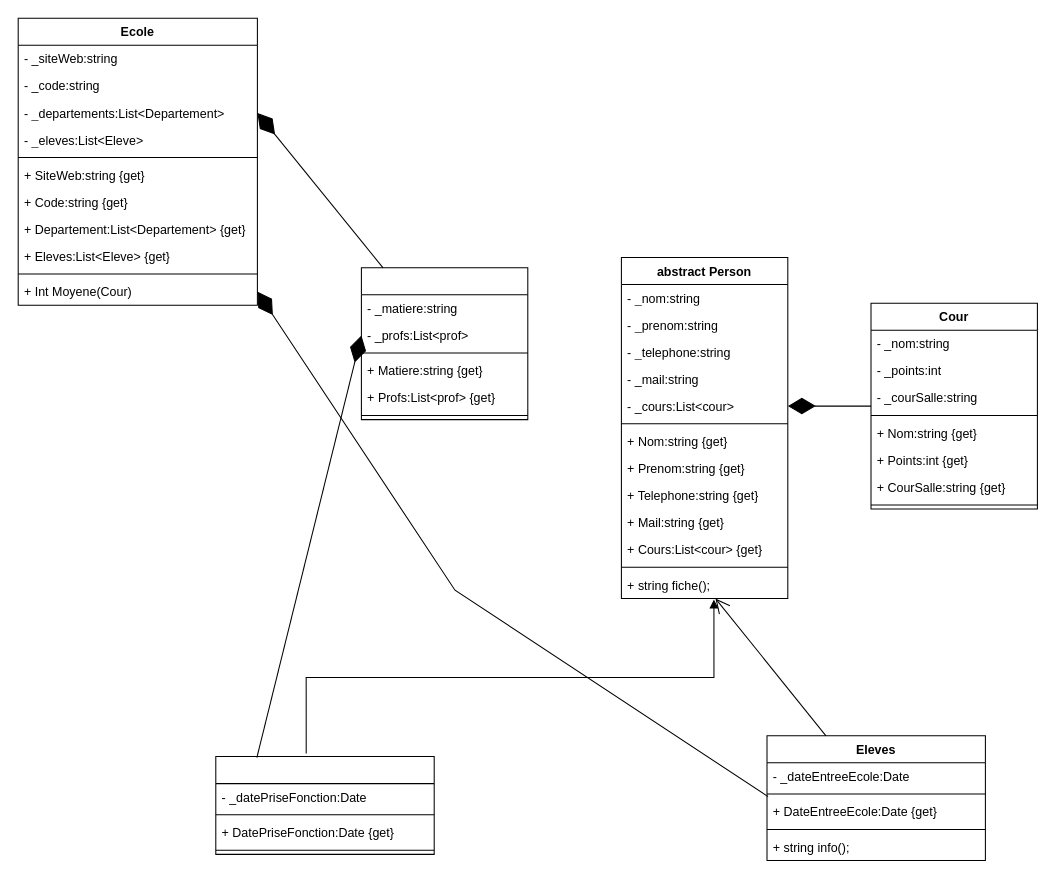
Some shapes in this 1056 by 882 pixel diagram are drawn without their labels. Each missing label, with the box of its shape:
Departement: (360, 267, 528, 420)
Prof: (215, 756, 434, 854)
